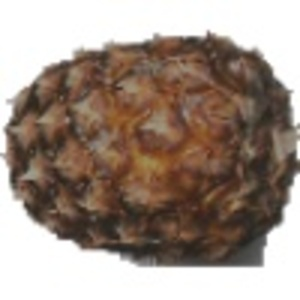abacaxi: (3, 27, 297, 258)
